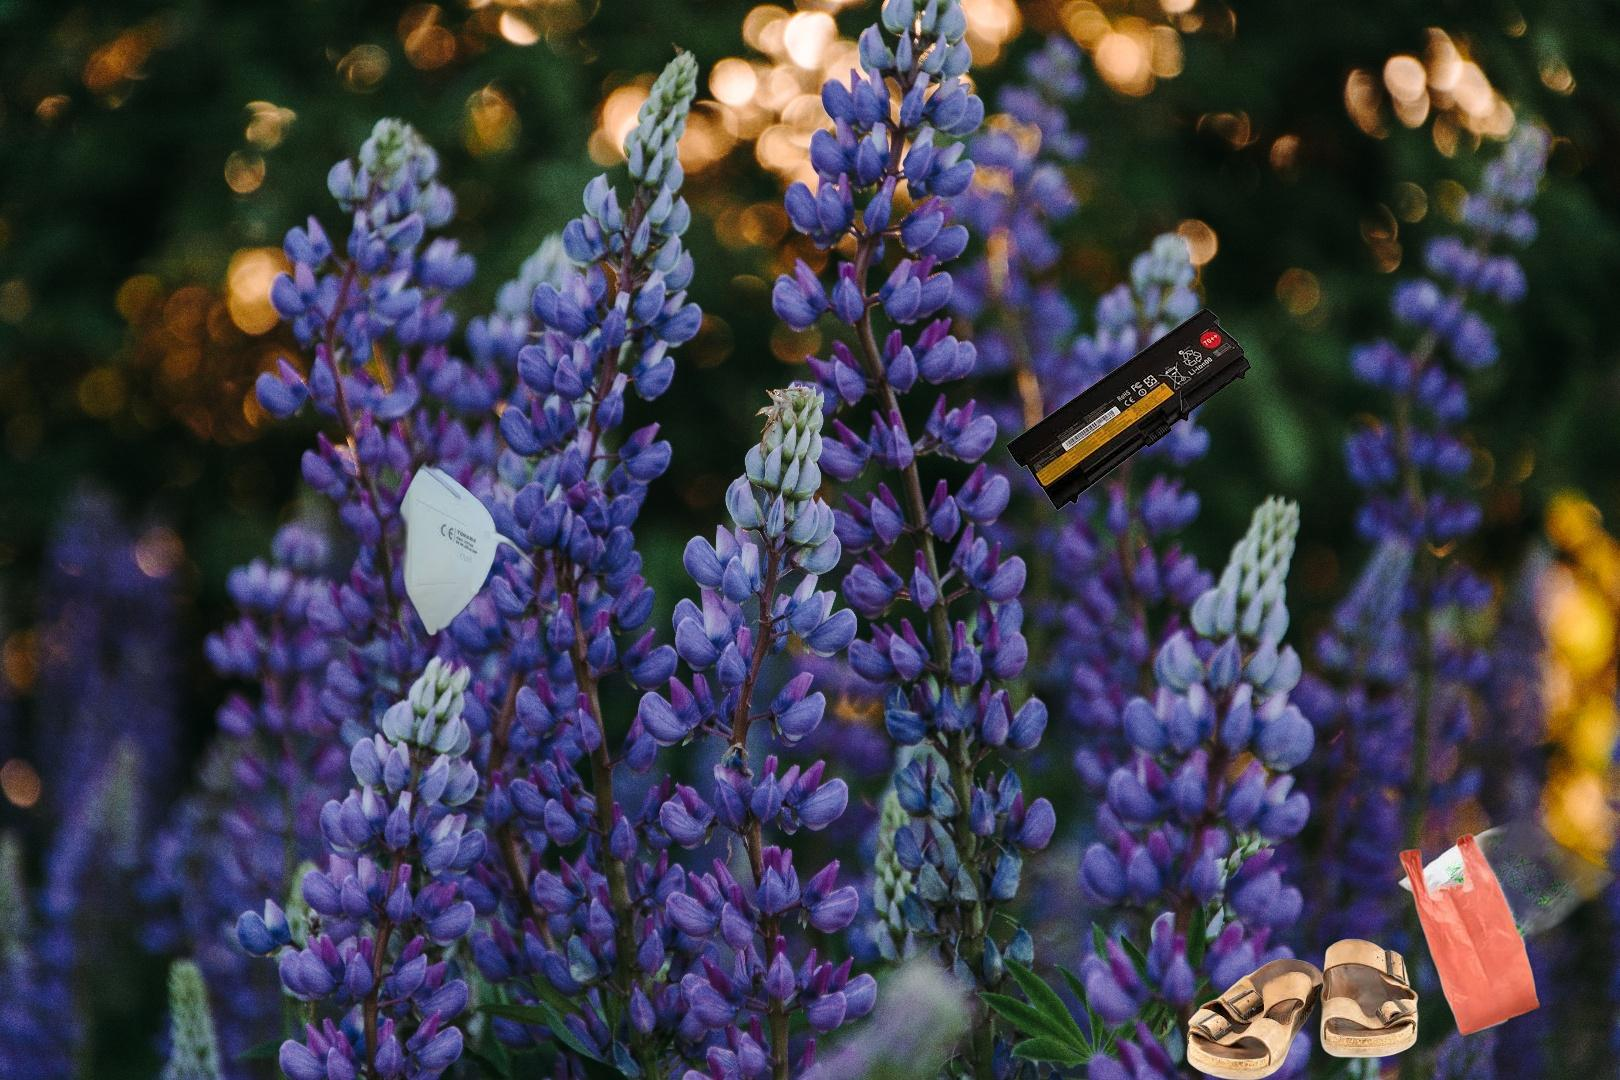battery: (1005, 307, 1252, 511)
plastic-bag: (1391, 771, 1620, 1041)
shoes: (1185, 937, 1422, 1080)
trash: (344, 458, 559, 642)
trashbox-cardboard: (605, 1023, 1217, 1080)
